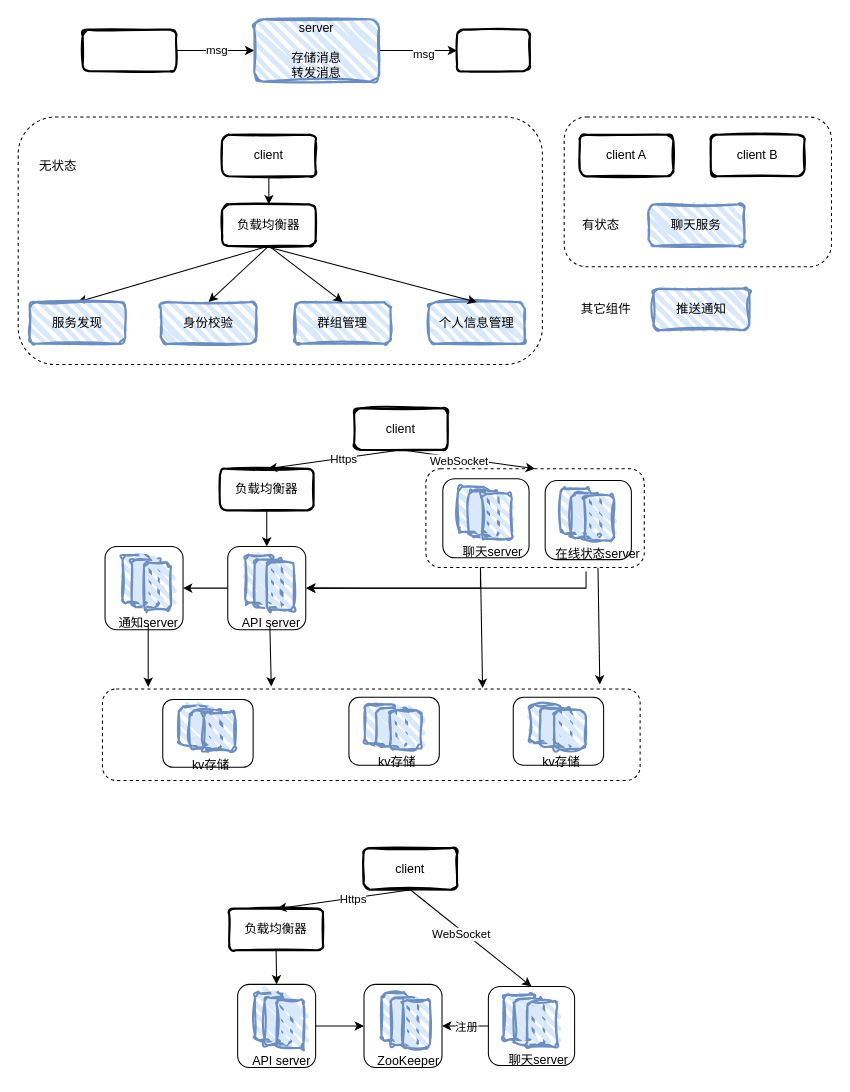
This 850x1092 diagram has some shape labels left out. The box of each missing label's shape, as (x1, y1, x2, y2) in pixels:
发送端: (81, 28, 177, 72)
接收端: (456, 28, 530, 72)
